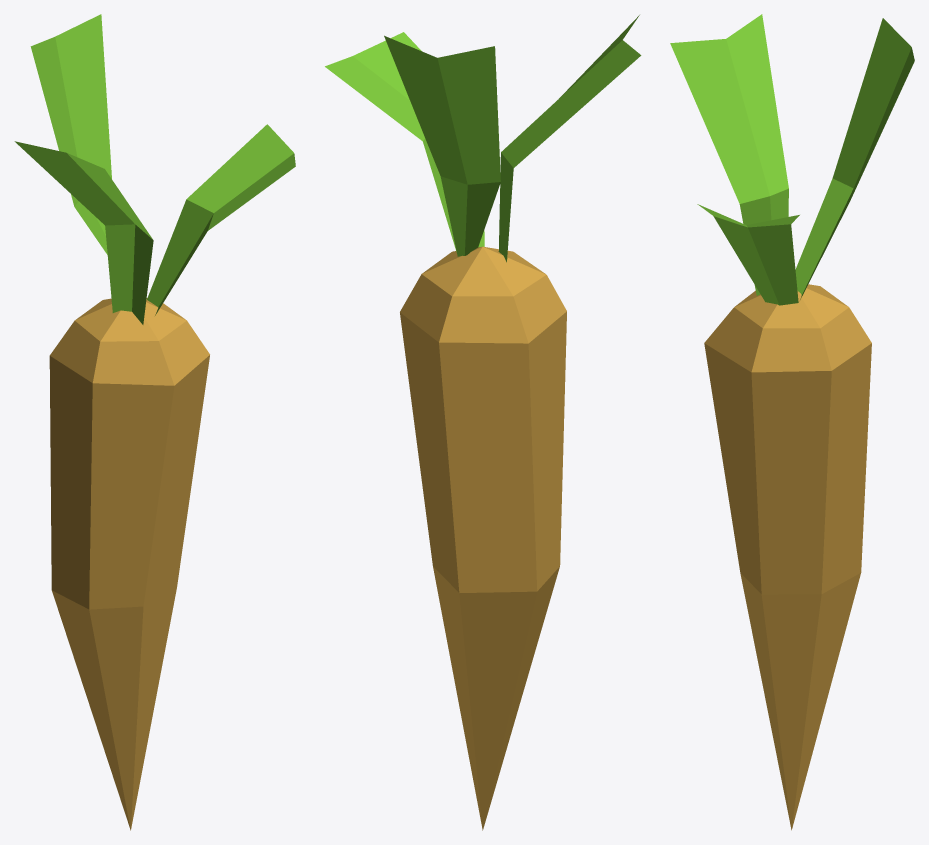
Rendered from Carrot2.fbx.
3 views of the same model, side by side, from view 1: azimuth 30°, elevation 25°; view 2: azimuth 150°, elevation 25°; view 3: azimuth 270°, elevation 25° (orthographic). The views are drawn at different scales.
Parts seen in each view (by area): view 1: Cone; view 2: Cone; view 3: Cone.
Part boxes in pixels (x1,y1,x2,y2): Cone: (14, 14, 295, 830); Cone: (325, 15, 641, 830); Cone: (670, 14, 914, 830).
Bounding box in the file's own units: 0.2034 × 0.546 × 0.1543.
